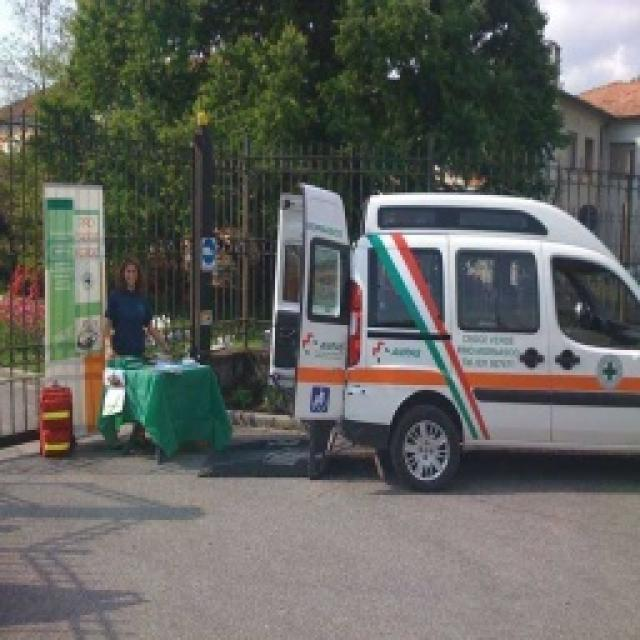emergency-vehicle: (289, 183, 640, 475)
